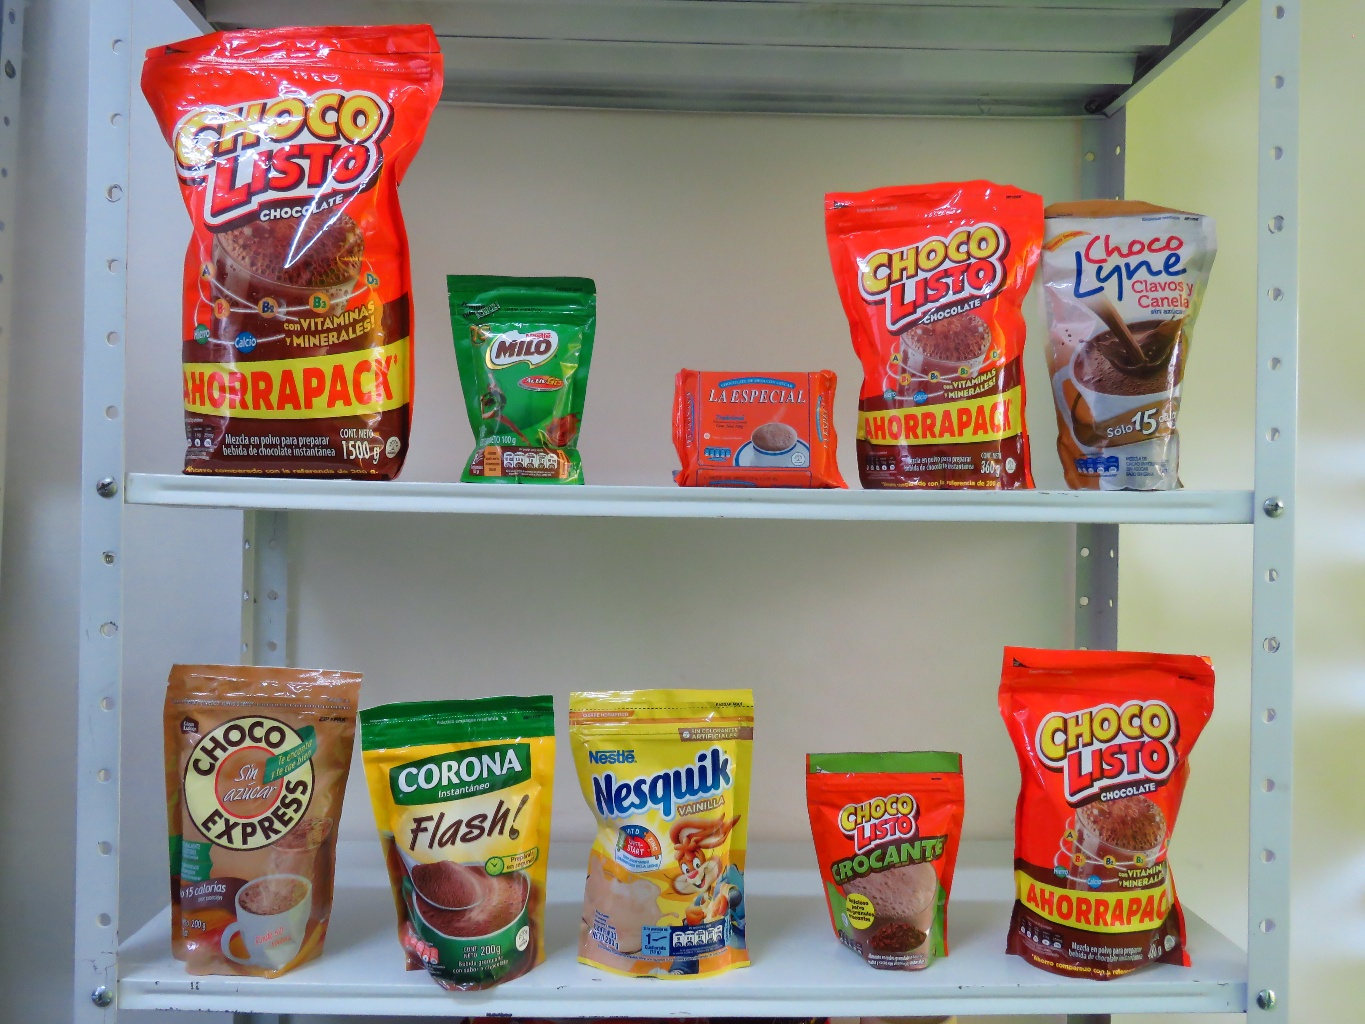COL0170102DYP10000: (790, 736, 982, 977)
COL0170103DYP1,500: (114, 13, 456, 487)
COL0170103DYP36000: (810, 160, 1055, 503)
COL0170103DYP40000: (977, 621, 1231, 984)
COL0170203DYP10000: (444, 260, 611, 494)
COL0170306DYP20000: (535, 671, 790, 986)
